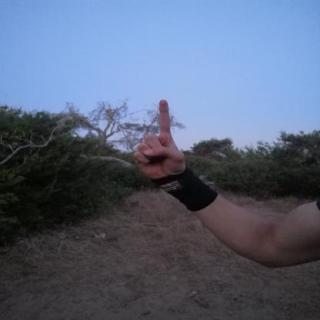BAA: (126, 92, 192, 188)
